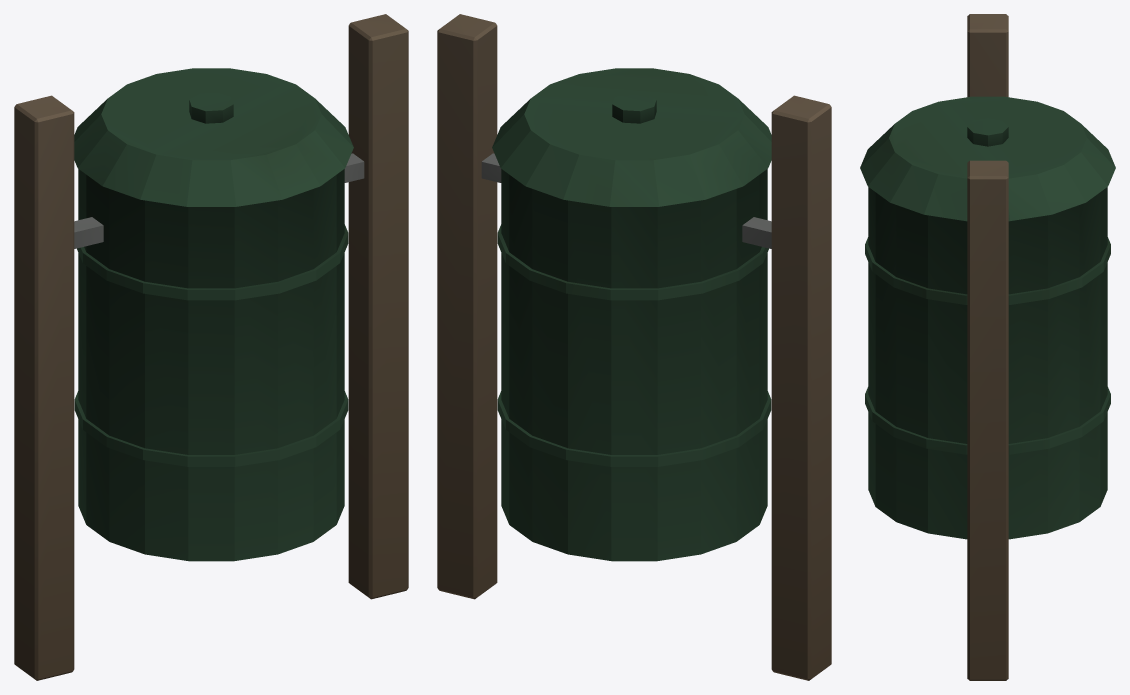
File: boat_launch_bin.glb
The picture shows the model from 3 angles, left to right: view 1: azimuth 30°, elevation 25°; view 2: azimuth 150°, elevation 25°; view 3: azimuth 270°, elevation 25°; orthographic projection. The views are drawn at different scales.
Parts seen in each view (by area): view 1: boat_launch_bin_LOD0; view 2: boat_launch_bin_LOD0; view 3: boat_launch_bin_LOD0.
Boxes of the visible parts, x1,y1,x2,y2 form: boat_launch_bin_LOD0: (14,14,408,680); boat_launch_bin_LOD0: (437,14,831,680); boat_launch_bin_LOD0: (860,14,1115,680).
Size of what is drawn, in the model's own units: 0.94 by 1.35 by 0.62.
